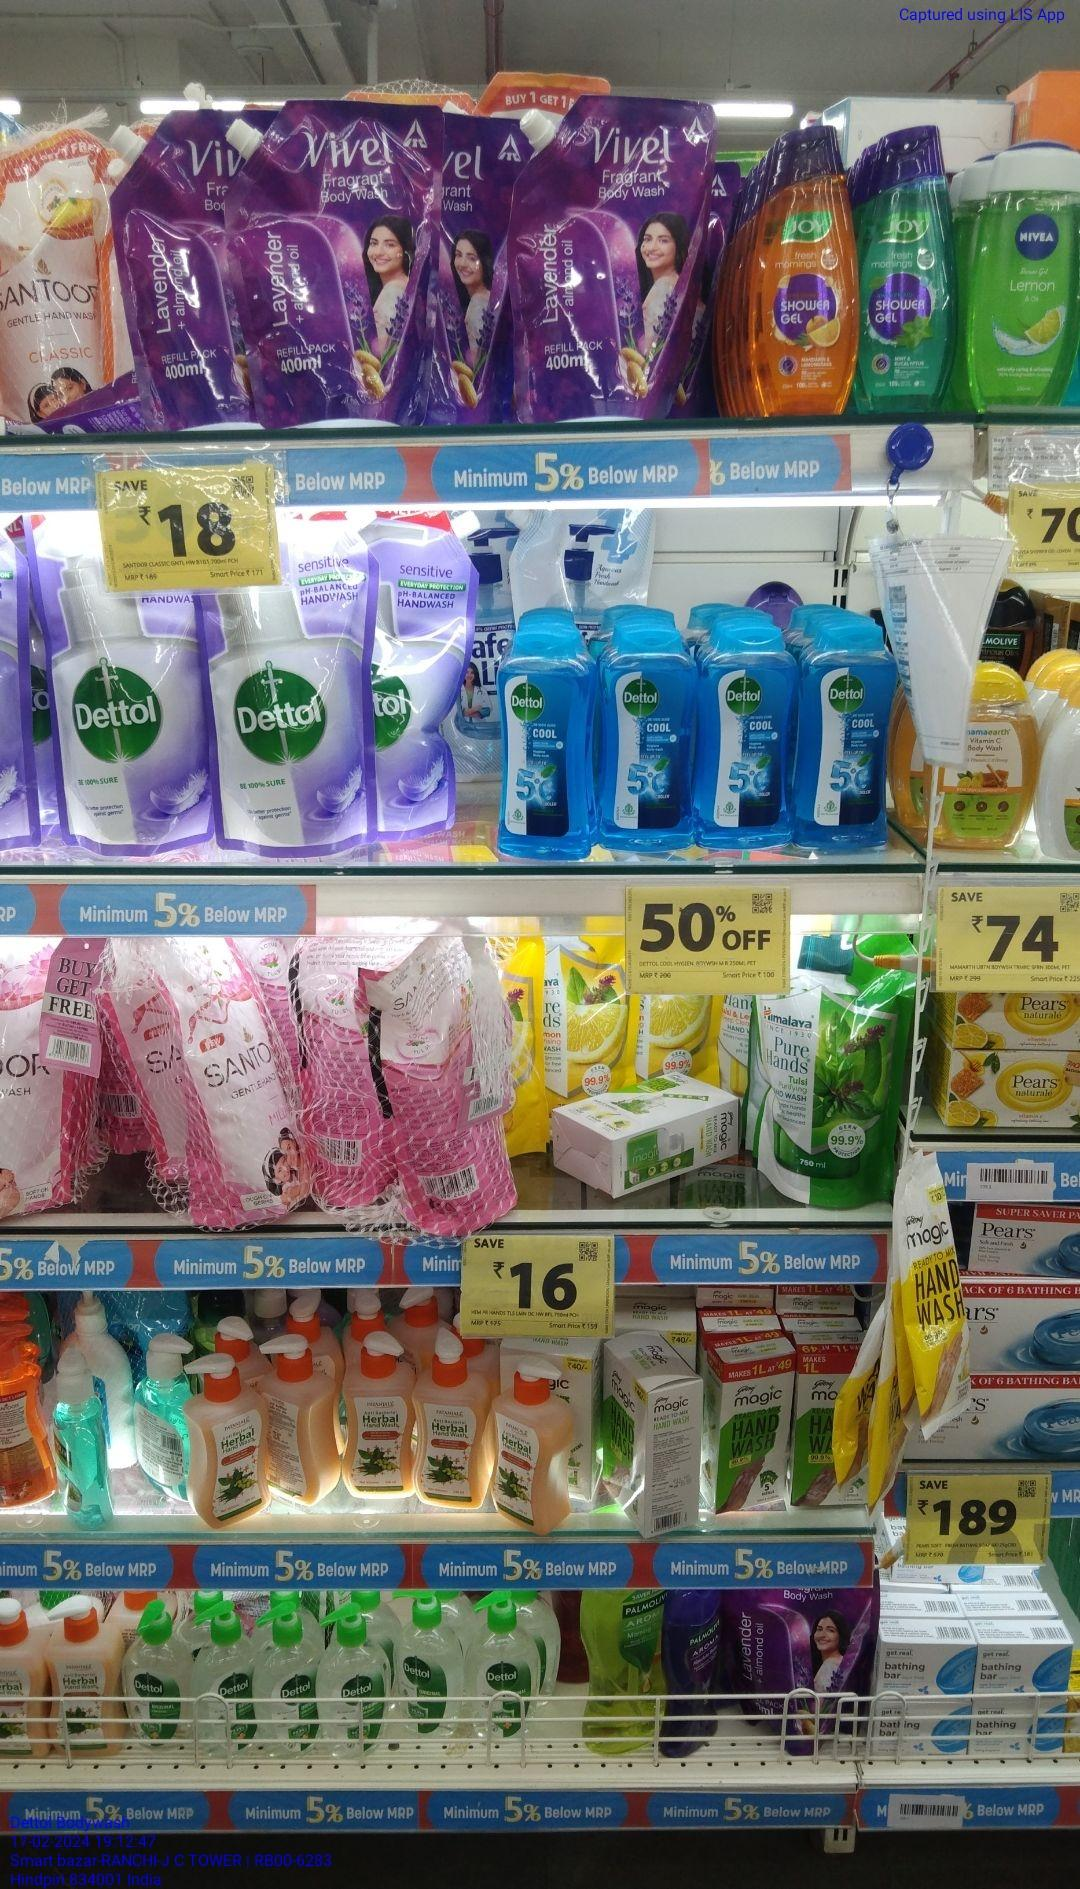Dettol_Bodywash_Cool: (493, 621, 593, 863), (793, 619, 892, 850), (697, 620, 789, 848), (601, 623, 693, 848)
Joy_Shower_Gel_Mandarin_and_Lemongrass_250ML: (755, 127, 857, 413)
Joy_Shower_Gel_Mint_and_Eucalyptus_250ML: (859, 115, 951, 414)
Nivea_Shower_Gel_Lemon_and_Oil_250ML: (964, 134, 1080, 423)
